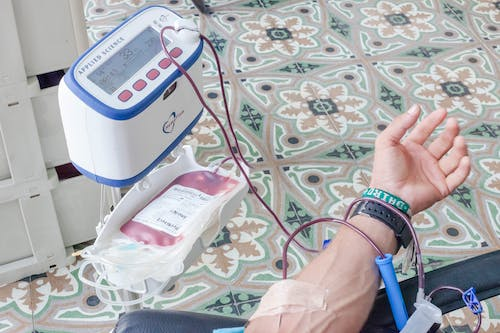blood: (159, 23, 424, 290), (118, 167, 242, 249), (428, 284, 483, 333)
